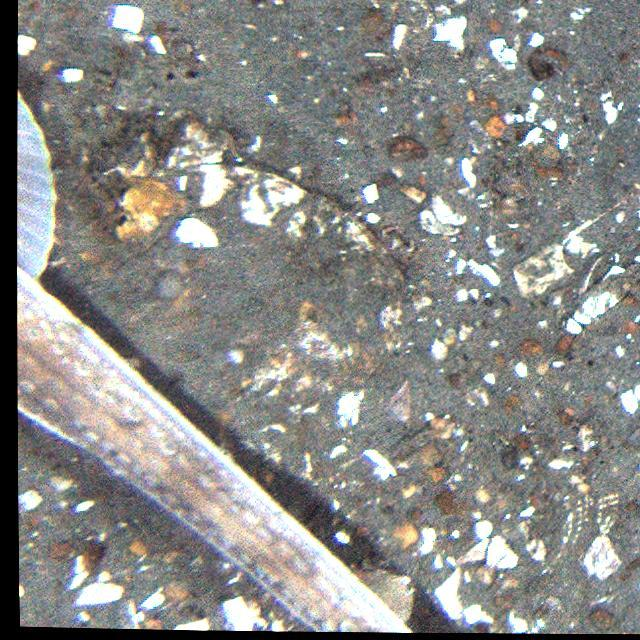skate: (14, 260, 422, 632)
